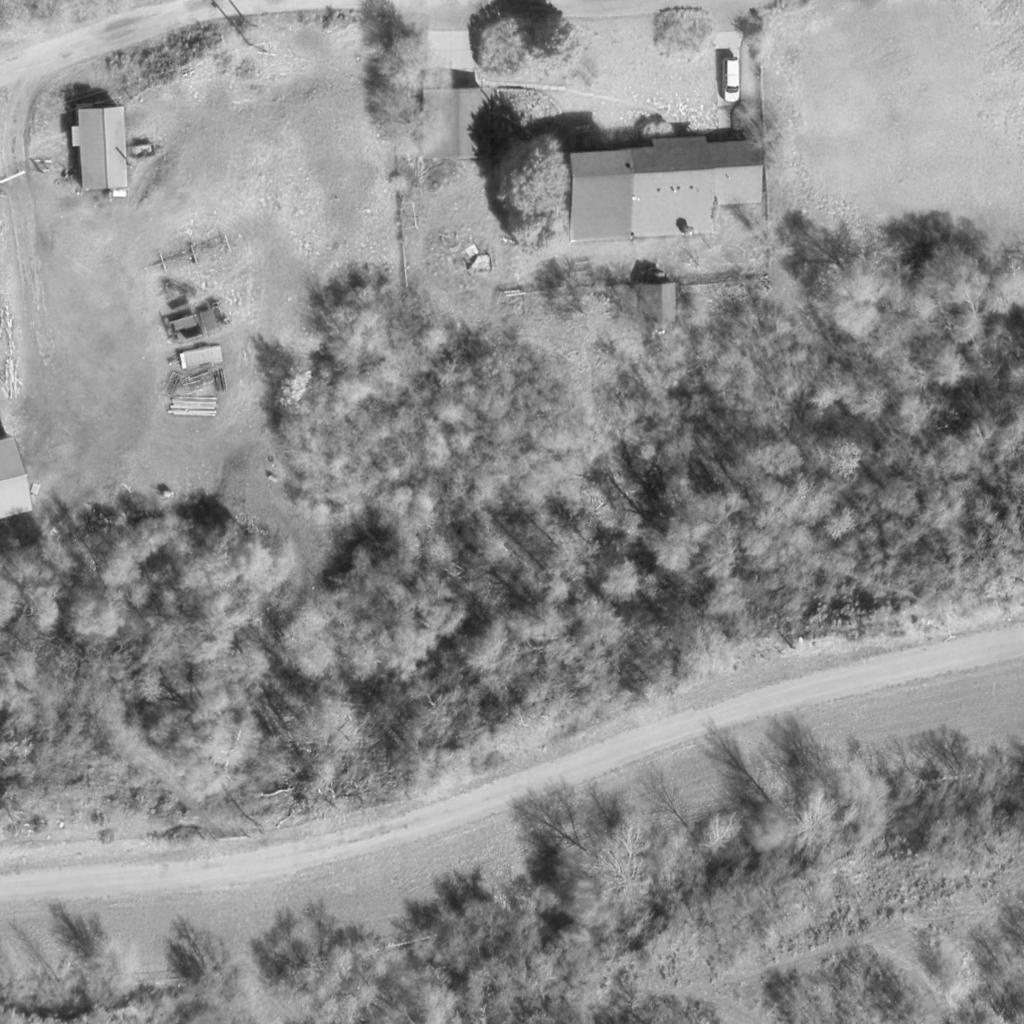vehicle: (724, 56, 744, 104)
